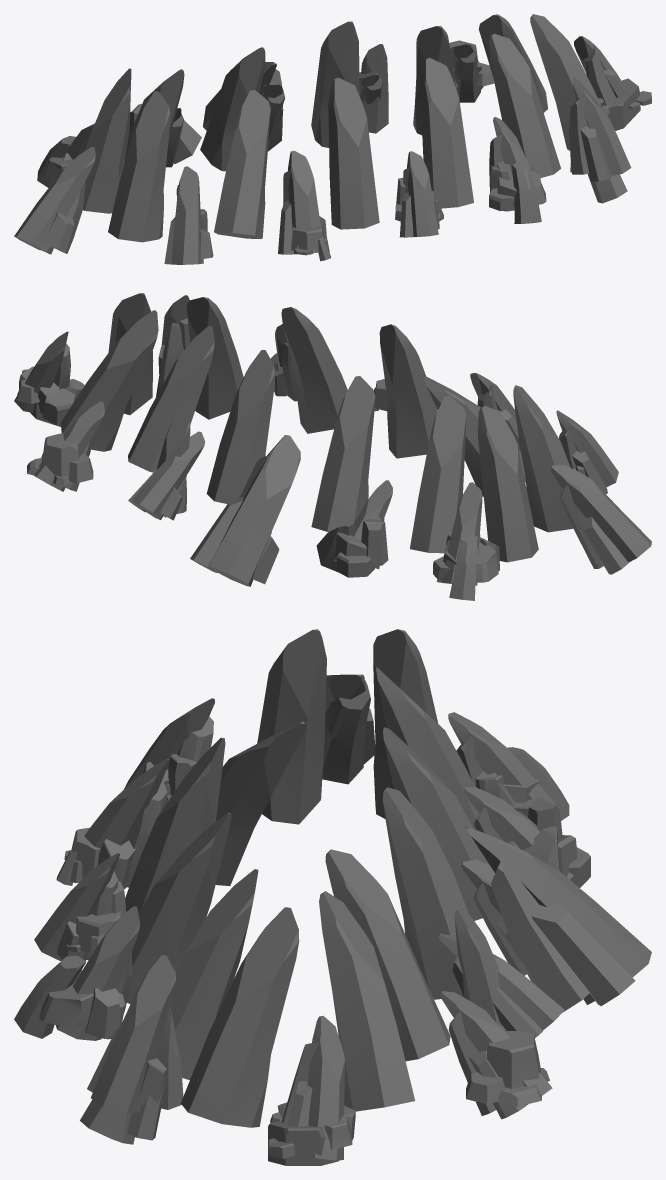
File: Zone3_SharkTeeth.fbx
3 views of the same model, one above another, from view 1: azimuth 30°, elevation 25°; view 2: azimuth 150°, elevation 25°; view 3: azimuth 270°, elevation 25° (orthographic). The views are drawn at different scales.
Visible parts, largest first — view 1: rock5051, rock5053, rock5054, rock5052, rock5050, rock5043, rock_huge_38, rock_huge_31, rock5045, rock5049, rock5046, rock_huge_27 (+22 smaller); view 2: rock_huge_39, rock5043, rock5045, rock5044, rock5046, rock_huge_38, rock5048, rock5051, rock5054, rock5053, rock5047, rock5050 (+17 smaller); view 3: rock_huge_39, rock5049, rock5048, rock5046, rock5047, rock5053, rock5050, rock5054, rock_huge_31, rock5051, rock5052, rock5045 (+22 smaller).
Boxes of the visible parts, x1,y1,x2,y2 form: rock5051: (328, 77, 379, 229); rock5053: (108, 91, 170, 242); rock5054: (420, 57, 473, 208); rock5052: (214, 90, 270, 238); rock5050: (489, 33, 560, 177); rock5043: (82, 68, 131, 213); rock_huge_38: (14, 147, 95, 254); rock_huge_31: (569, 77, 631, 181); rock5045: (200, 47, 265, 171); rock5049: (530, 14, 601, 150); rock5046: (311, 21, 359, 147); rock_huge_27: (164, 166, 213, 264); rock_huge_39: (190, 435, 300, 586); rock5043: (478, 405, 538, 562); rock5045: (311, 376, 375, 531); rock5044: (410, 395, 466, 553); rock5046: (206, 350, 275, 503); rock_huge_38: (550, 464, 651, 574); rock5048: (60, 310, 158, 451); rock5051: (379, 324, 437, 458); rock5054: (281, 307, 347, 433); rock5053: (513, 385, 573, 532); rock5047: (128, 325, 214, 472); rock5050: (187, 297, 243, 419); rock_huge_39: (465, 826, 651, 1012); rock5049: (180, 907, 299, 1127); rock5048: (319, 891, 415, 1111); rock5046: (382, 787, 467, 999); rock5047: (325, 849, 450, 1061); rock5053: (257, 629, 326, 824); rock5050: (170, 869, 258, 1079); rock5054: (127, 812, 231, 1004); rock_huge_31: (87, 955, 175, 1113); rock5051: (125, 737, 225, 912); rock5052: (215, 721, 305, 885); rock5045: (383, 727, 489, 920).
Size of the model in its own units: 39680 by 10266 by 23674.
